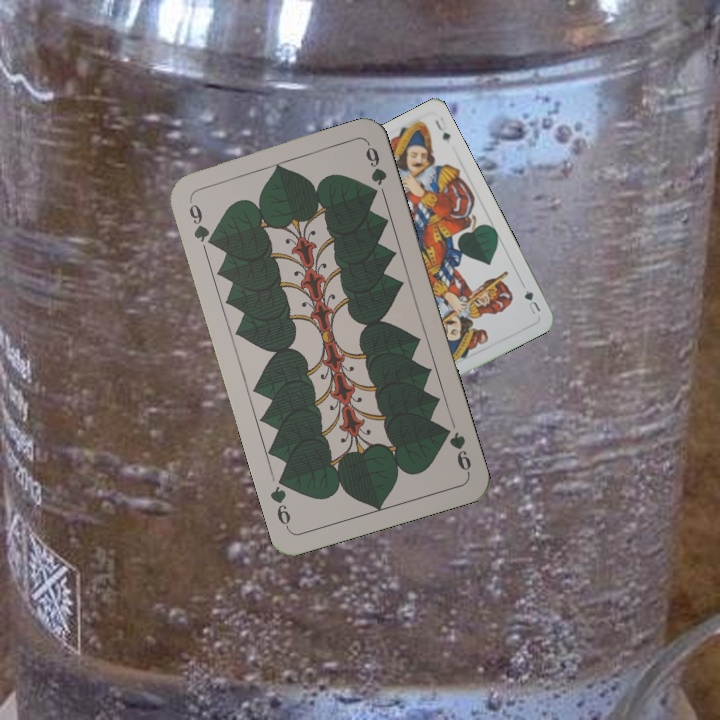G9: (438, 422, 474, 477), (185, 195, 218, 253)
GU: (520, 286, 543, 318)
